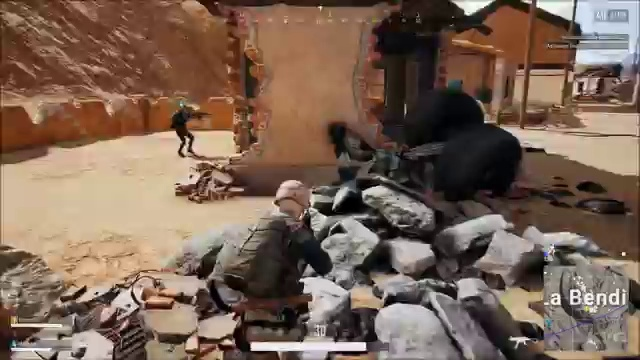Player: (217, 176, 355, 318), (165, 103, 212, 158)
